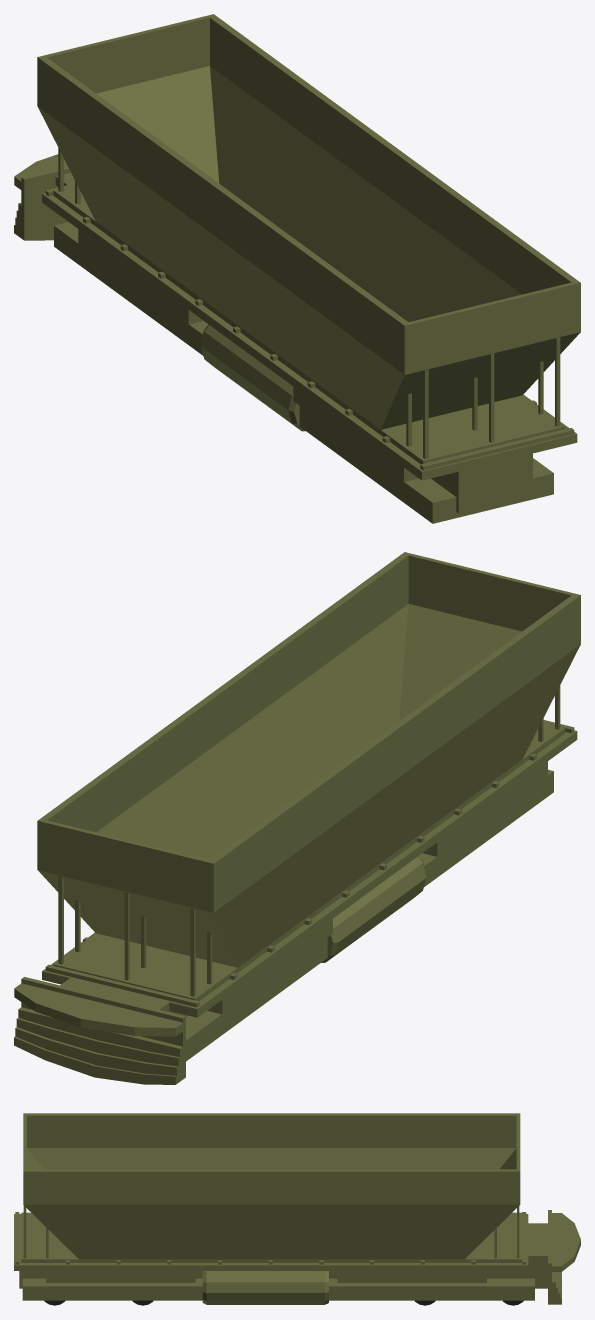
File: flatcar.glb
3 renders of one model, top to bottom at view 1: azimuth 30°, elevation 25°; view 2: azimuth 150°, elevation 25°; view 3: azimuth 270°, elevation 25°, orthographic. The views are drawn at different scales.
Parts seen in each view (by area): view 1: Wagon_OpenContainer_Cube.002; view 2: Wagon_OpenContainer_Cube.002; view 3: Wagon_OpenContainer_Cube.002.
Part boxes in pixels (<box>): Wagon_OpenContainer_Cube.002: <box>14,14,580,523</box>; Wagon_OpenContainer_Cube.002: <box>14,552,580,1084</box>; Wagon_OpenContainer_Cube.002: <box>14,1113,580,1304</box>.
Bounding box in the file's own units: 2.25 × 2.73 × 9.26.
